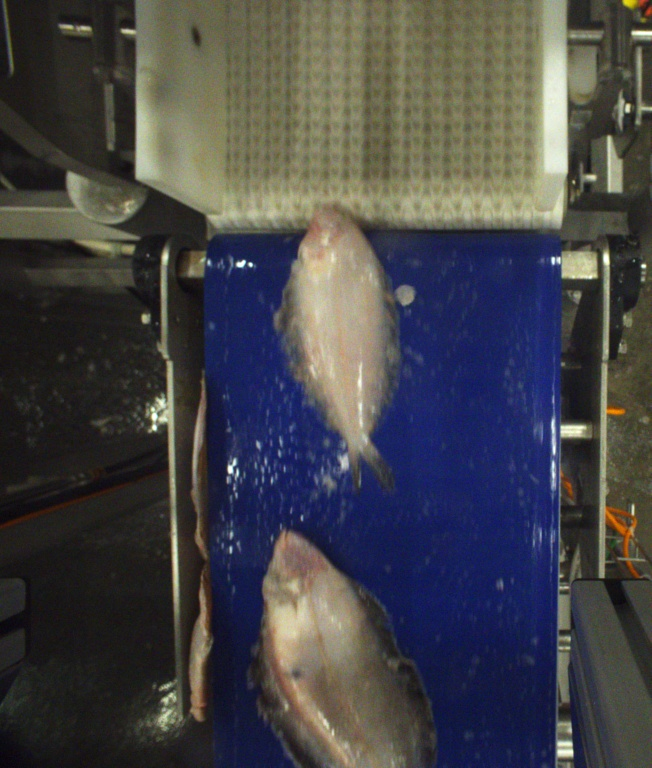WIT: (278, 203, 400, 495)
